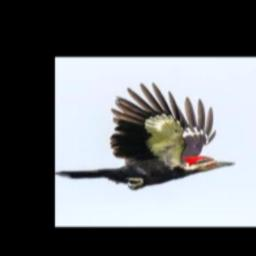Woodpecker: (56, 82, 237, 190)
